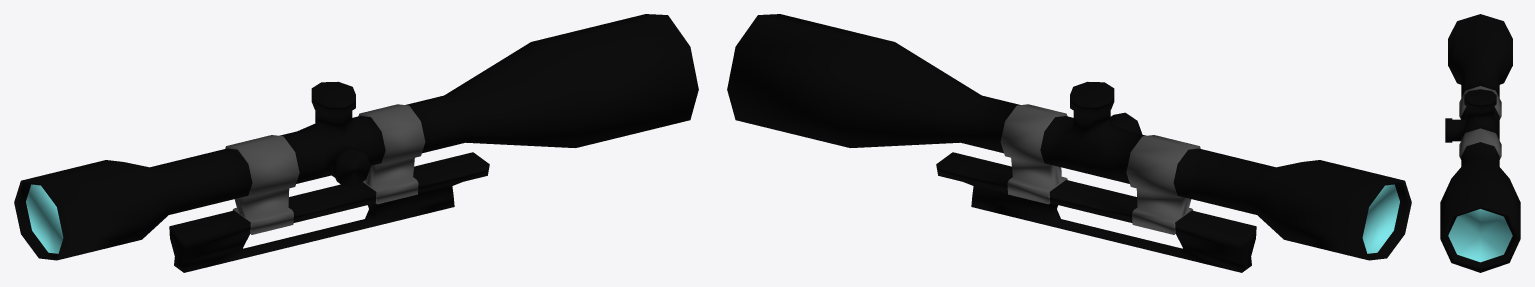
The model's file is TeloscopicSights.fbx.
3 renders of one model, left to right at view 1: azimuth 30°, elevation 25°; view 2: azimuth 150°, elevation 25°; view 3: azimuth 270°, elevation 25°, orthographic. The views are drawn at different scales.
Parts seen in each view (by area): view 1: Cylinder.001; view 2: Cylinder.001; view 3: Cylinder.001.
Boxes of the visible parts, x1=… form: Cylinder.001: x1=14, y1=14, x2=698, y2=272; Cylinder.001: x1=727, y1=14, x2=1411, y2=272; Cylinder.001: x1=1440, y1=14, x2=1520, y2=272.
Bounding box in the file's own units: 133 × 28.29 × 22.53.
